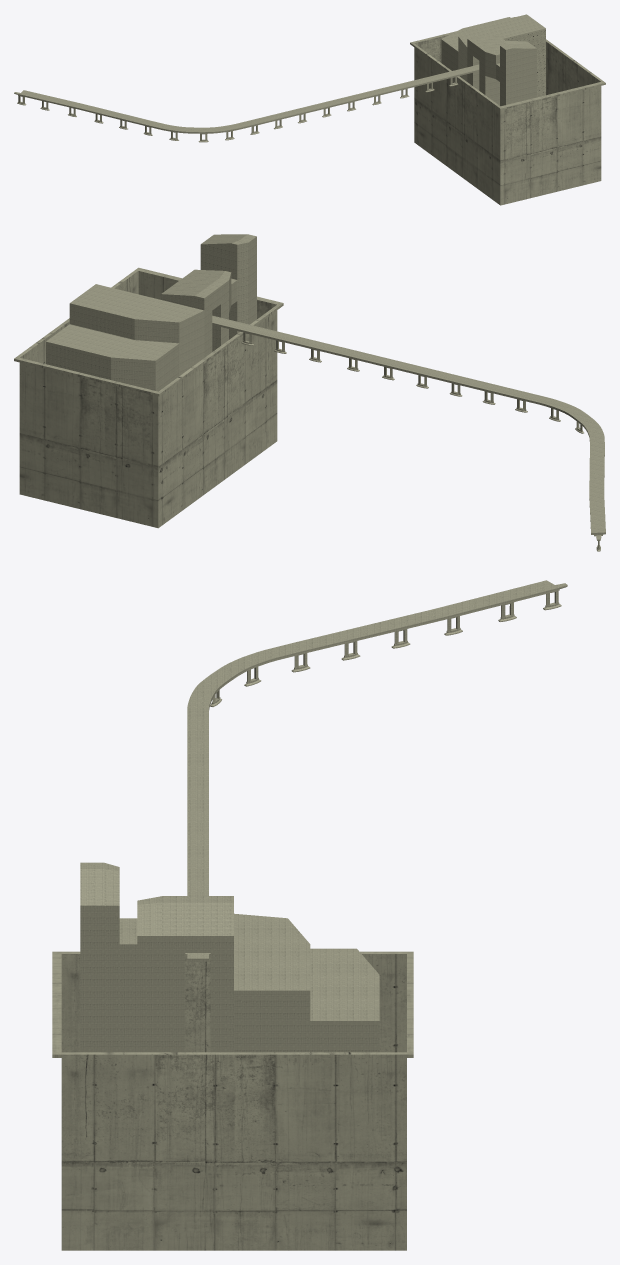
The model's file is SM_NeoLD_12_Block02.fbx.
3 renders of one model, top to bottom at view 1: azimuth 30°, elevation 25°; view 2: azimuth 150°, elevation 25°; view 3: azimuth 270°, elevation 25°, orthographic. The views are drawn at different scales.
Parts seen in each view (by area): view 1: SM_NeoLD_12_Block02; view 2: SM_NeoLD_12_Block02; view 3: SM_NeoLD_12_Block02.
Part boxes in pixels (<box>): SM_NeoLD_12_Block02: <box>14,14,605,205</box>; SM_NeoLD_12_Block02: <box>14,234,605,551</box>; SM_NeoLD_12_Block02: <box>52,580,567,1250</box>.
Bounding box in the file's own units: 78721 × 24290 × 37894.
